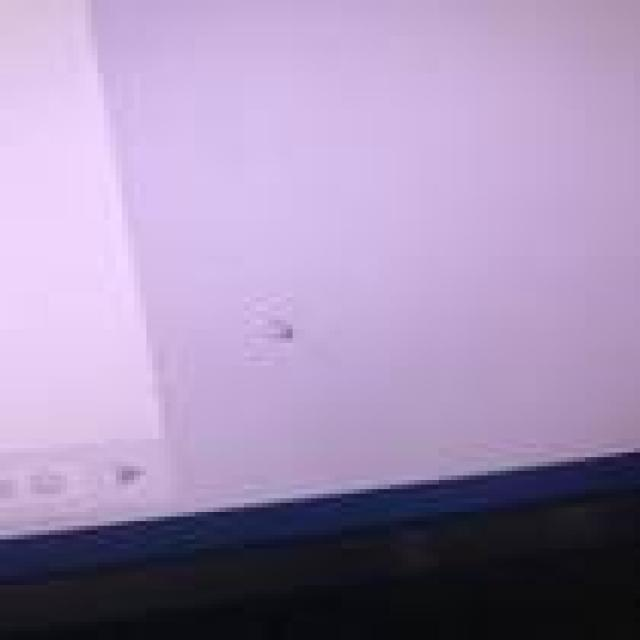dead_pixel: (251, 311, 319, 349)
